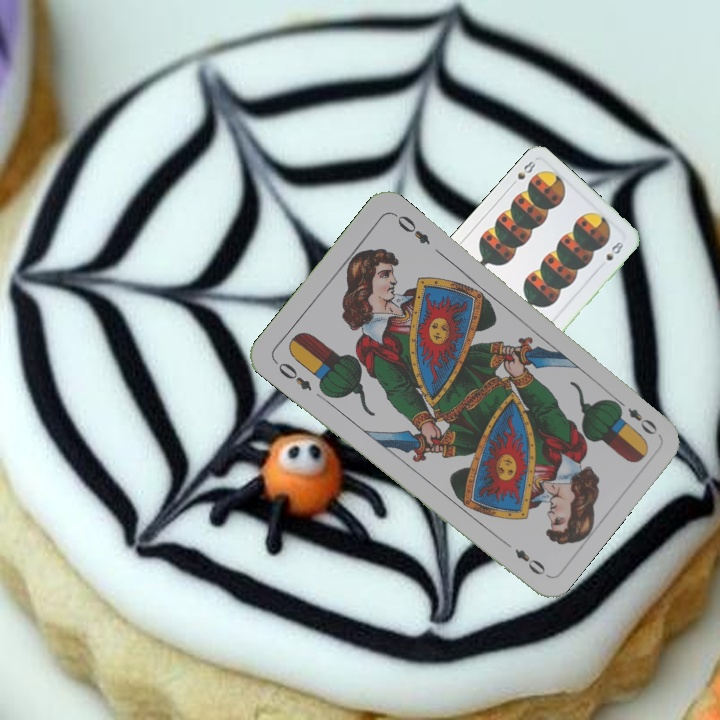EO: (611, 394, 661, 438), (270, 356, 315, 394)
S8: (506, 157, 538, 190)
